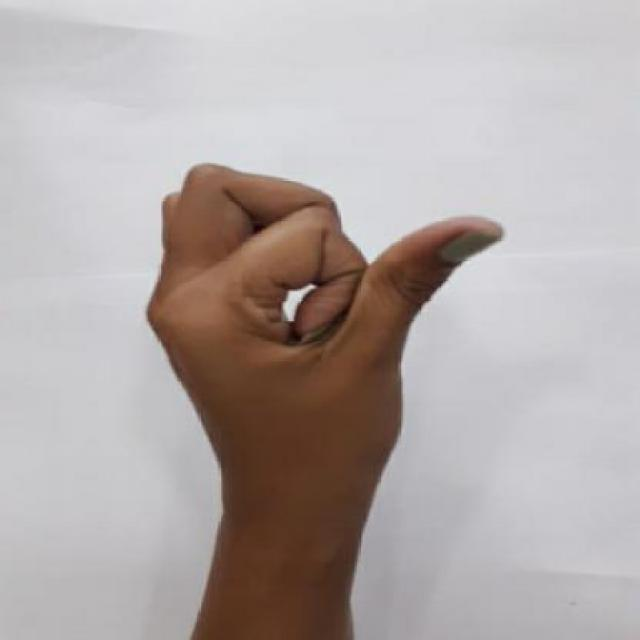without_gloves: (128, 143, 528, 540)
